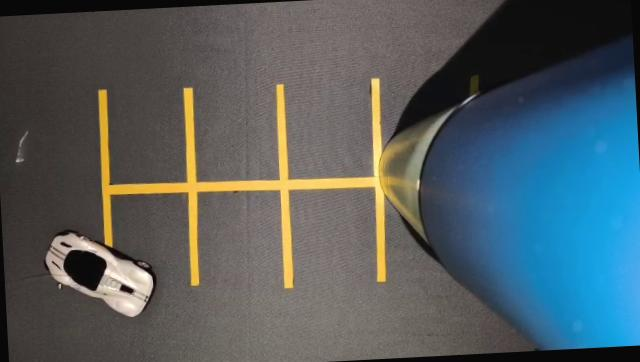toy_car: (33, 208, 185, 334)
